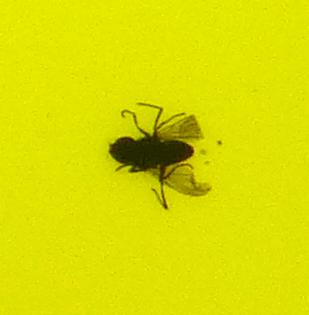Brachycera: (100, 100, 209, 215)
